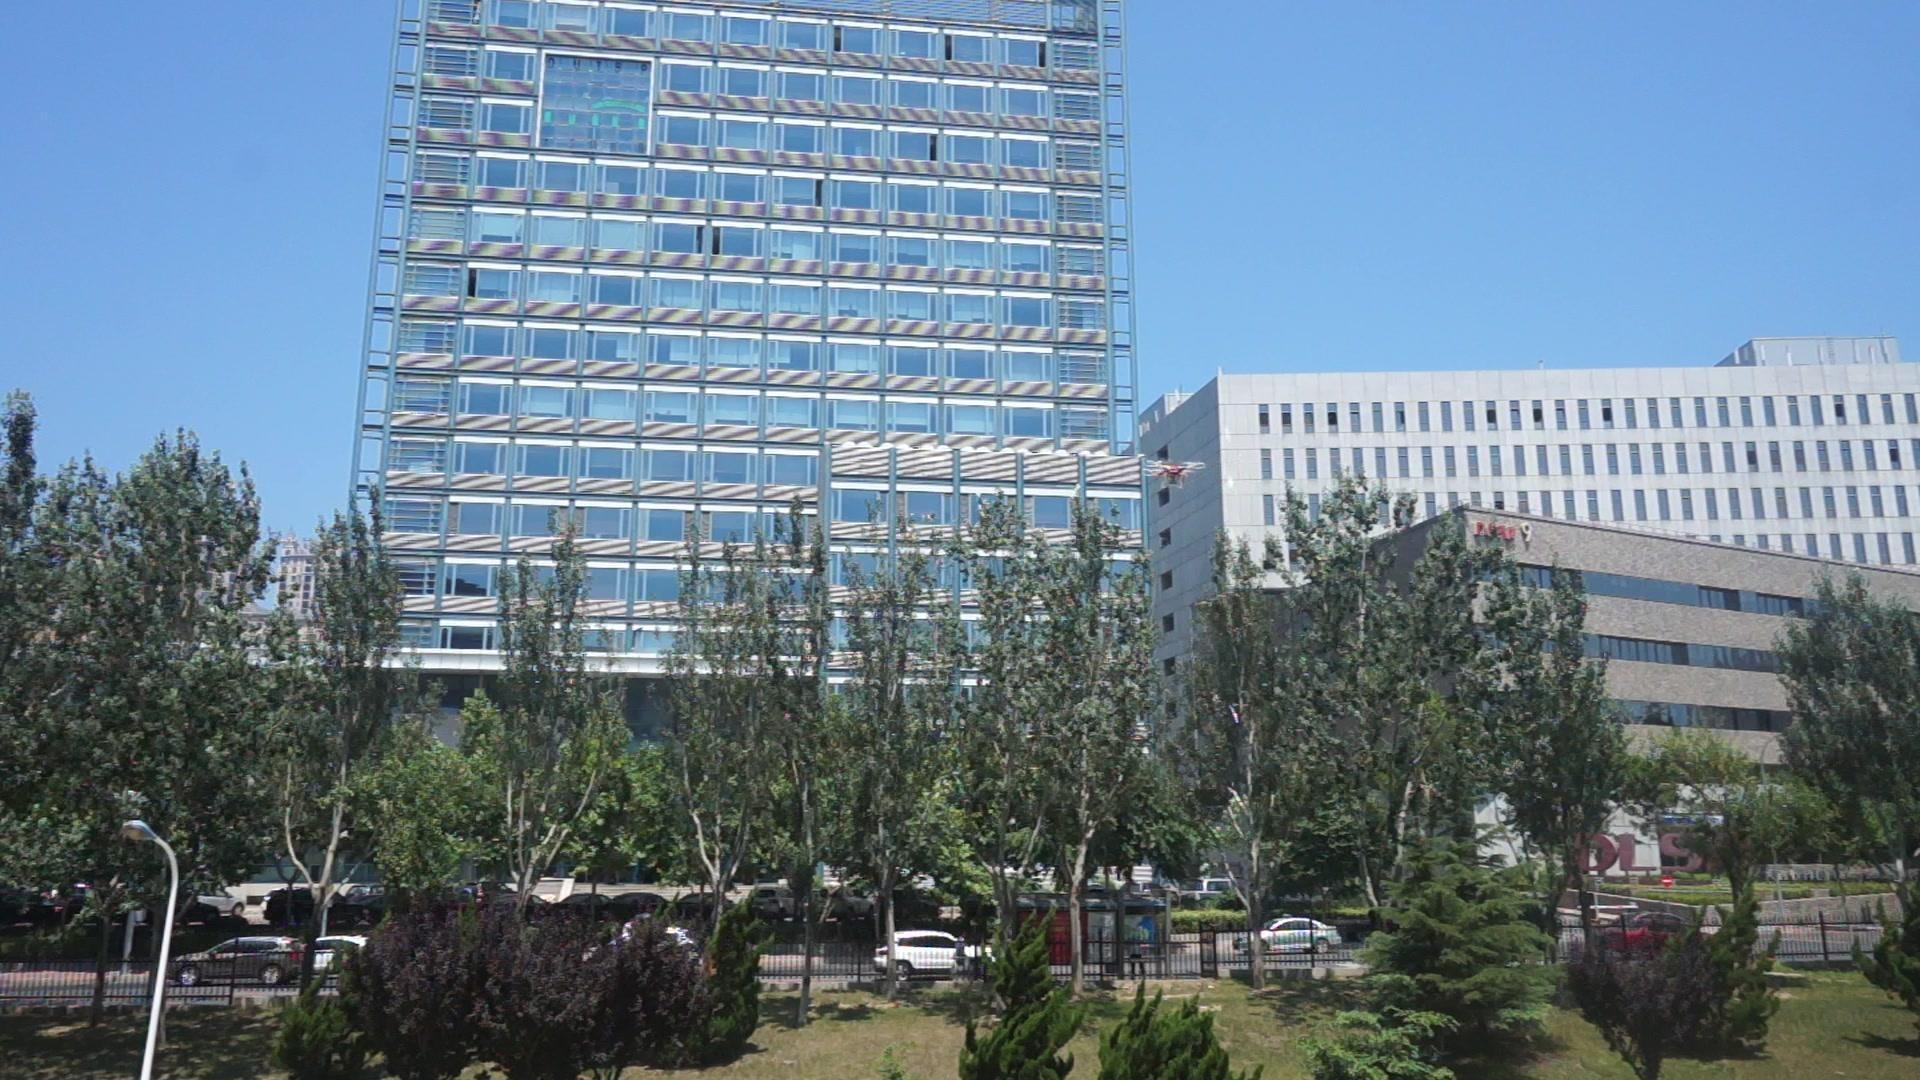UAV: (1145, 462, 1207, 491)
